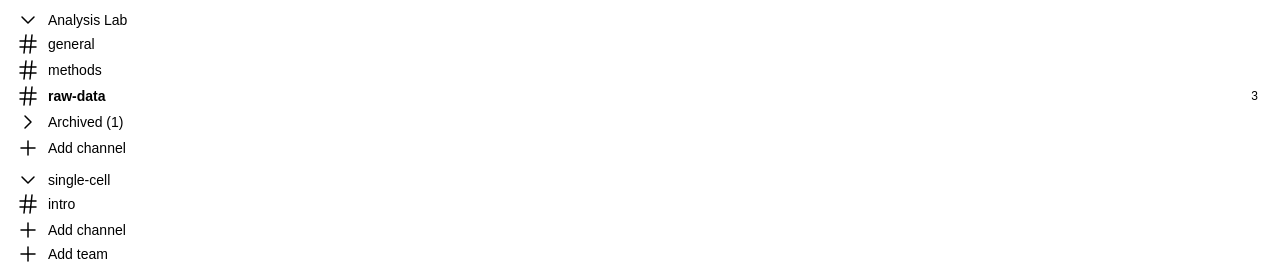
Test case: team sections › still renders when storage throws
The width and height of the screenshot is (1275, 279).
Click the button with aria-label "single-cell, 1 channel" at (79, 180), box left=8, top=168, right=1218, bottom=192
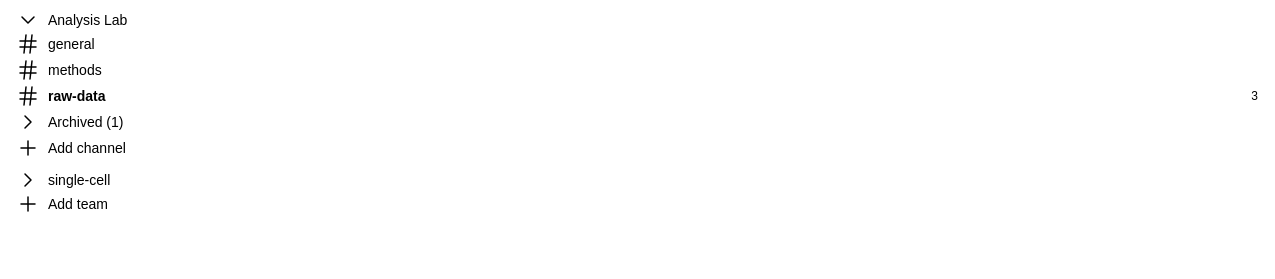
Expected: the button with aria-label "single-cell, 1 channel" is collapsed, left=8, top=168, right=1218, bottom=192
